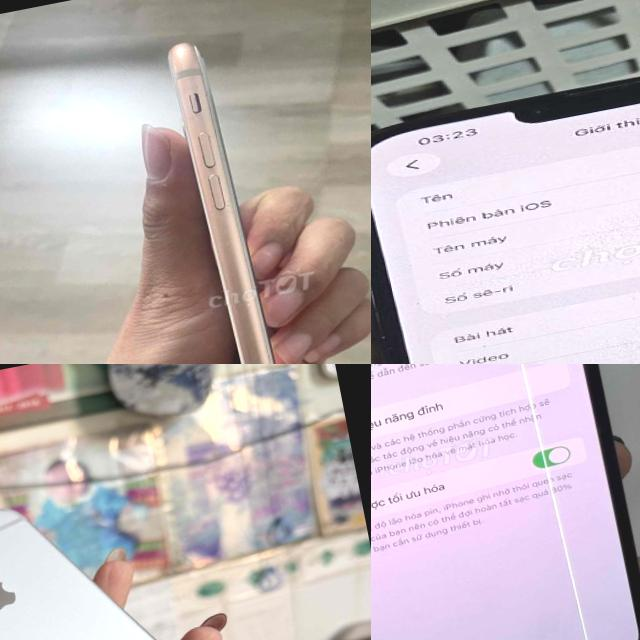scratch: (208, 194, 235, 214), (177, 84, 206, 98), (218, 236, 236, 249), (204, 128, 217, 143), (177, 46, 190, 58)
screen_defect: (429, 364, 629, 640)
